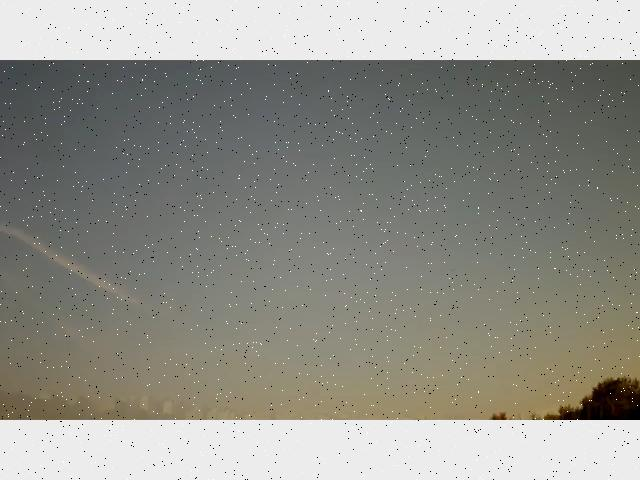Anti-Drone: (446, 266, 460, 278)
